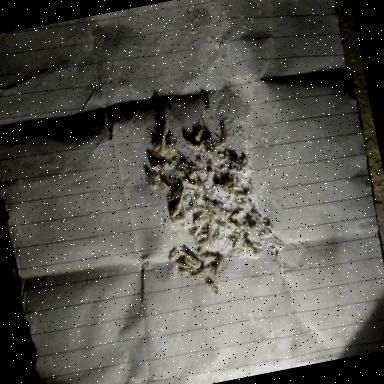pbw: (182, 134, 201, 154), (165, 186, 184, 206), (210, 256, 228, 277), (184, 252, 202, 272), (190, 214, 212, 230), (204, 148, 220, 168), (219, 120, 232, 144), (204, 199, 216, 225), (192, 125, 208, 143), (168, 202, 184, 220), (197, 178, 210, 200), (158, 120, 172, 140), (204, 223, 216, 246), (204, 103, 216, 126), (190, 265, 211, 278), (227, 232, 243, 249), (214, 182, 230, 198), (158, 136, 169, 158), (244, 196, 255, 218), (206, 278, 219, 296), (168, 248, 182, 263), (234, 170, 244, 190), (160, 180, 174, 194), (191, 224, 205, 238), (222, 178, 236, 192), (249, 224, 264, 237), (196, 243, 211, 256), (176, 258, 192, 270), (198, 136, 214, 148), (146, 170, 156, 188), (213, 209, 228, 221), (180, 265, 197, 275), (212, 201, 222, 218), (237, 190, 253, 200), (172, 214, 188, 224), (228, 219, 240, 232), (197, 237, 211, 248), (242, 216, 255, 227), (251, 210, 260, 224), (187, 180, 199, 190), (236, 196, 244, 210), (248, 244, 256, 256)
